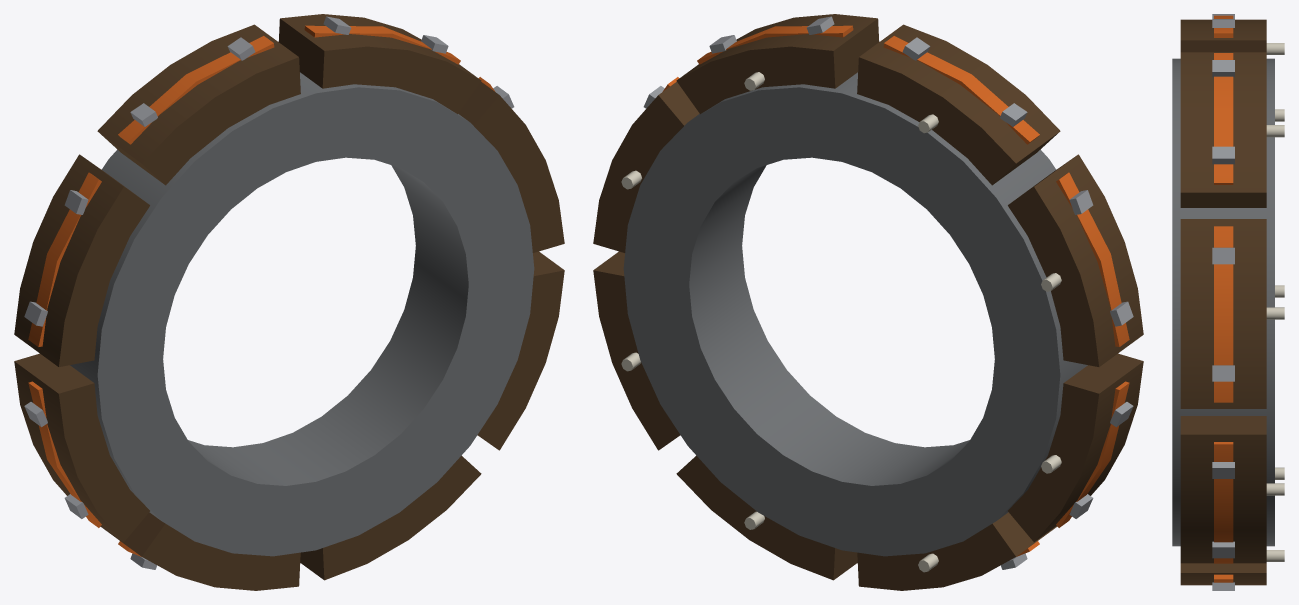
The model's file is u33_coil_ring.obj.
The picture shows the model from 3 angles, left to right: view 1: azimuth 30°, elevation 25°; view 2: azimuth 150°, elevation 25°; view 3: azimuth 270°, elevation 25°; orthographic projection. The views are drawn at different scales.
Visible parts, largest first — view 1: u33_coil_ring; view 2: u33_coil_ring; view 3: u33_coil_ring.
Boxes of the visible parts, left/top/right/bottom form: u33_coil_ring: left=14, top=14, right=564, bottom=590; u33_coil_ring: left=593, top=14, right=1143, bottom=590; u33_coil_ring: left=1172, top=14, right=1284, bottom=590.
Bounding box in the file's own units: 3.56 × 3.56 × 0.69.
